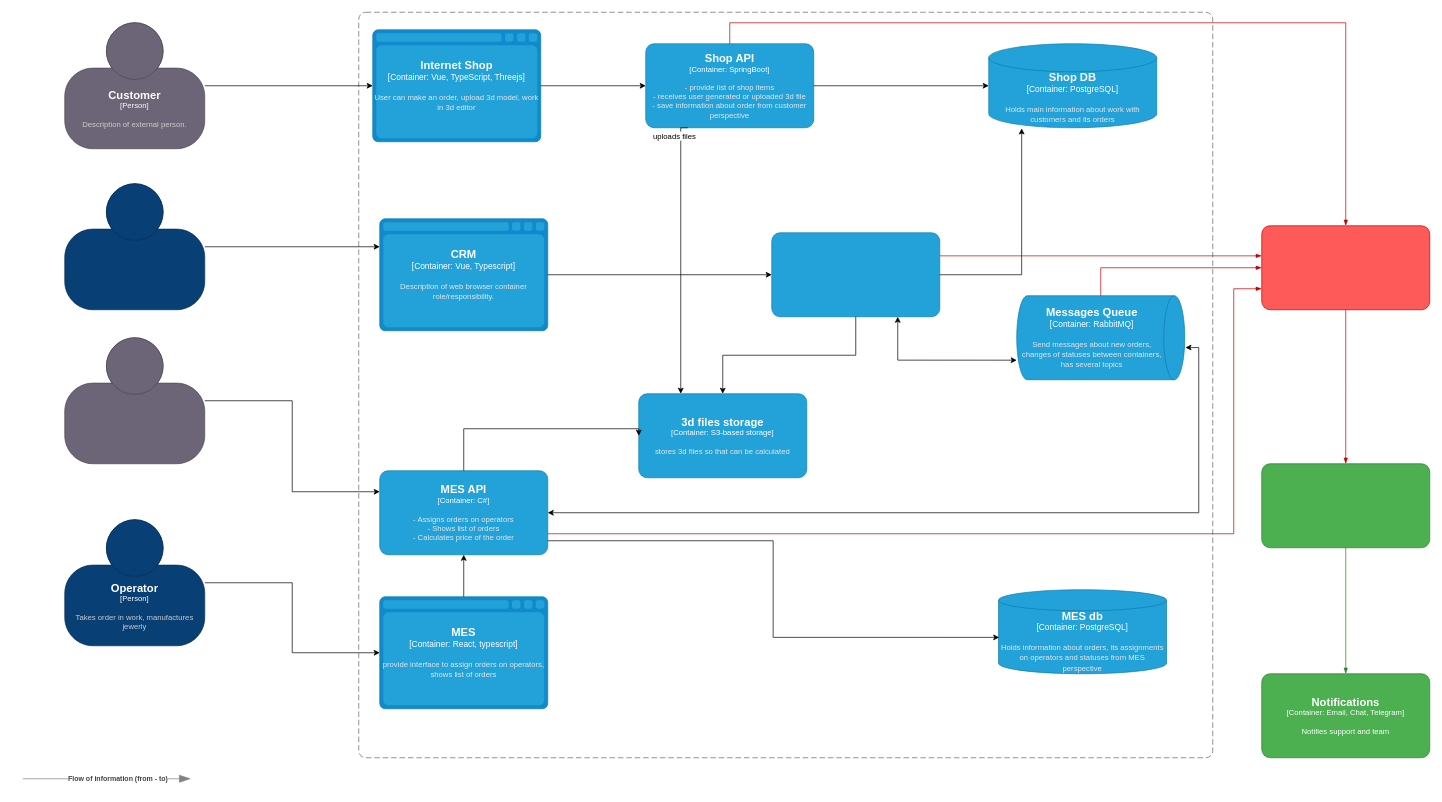
Some shapes in this 1442 by 802 pixel diagram are drawn without their labels. The box of each missing label's shape, as (x1, y1, x2, y2) in pixels:
API user [Person] Description of external person.: (64, 337, 205, 464)
CRM API [Container: SpringBoot] Description of container role/responsibility.: (771, 232, 940, 317)
Jewerly Store System [Software System]: (358, 12, 1213, 758)
Seller [Person] Operates with order, confirms manufacturing for the user: (64, 183, 205, 310)
Trace Alerts [Container: Prometheus] Rules and alerts based on traces: (1261, 463, 1430, 548)
Tracing Service [Container: Jaeger] Collects traces from services: (1261, 225, 1430, 310)
